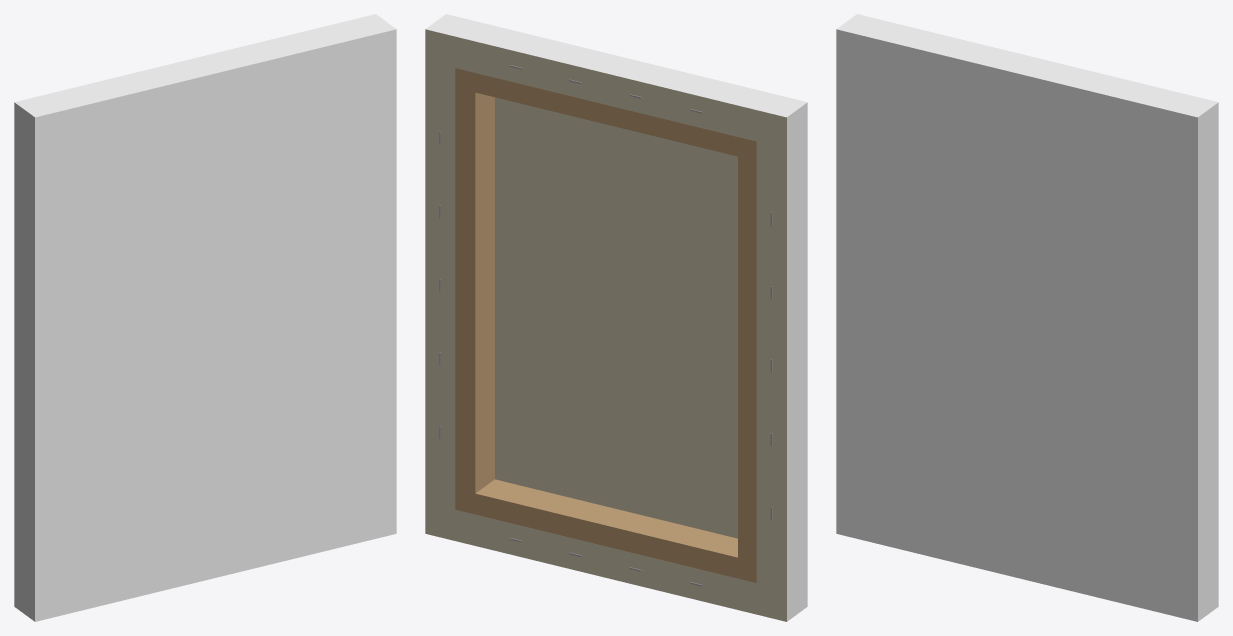
File: quadro.glb
The picture shows the model from 3 angles, left to right: view 1: azimuth 30°, elevation 25°; view 2: azimuth 150°, elevation 25°; view 3: azimuth 330°, elevation 25°; orthographic projection.
Parts seen in each view (by area): view 1: Arte; view 2: Tecido, Chassi, Arte, Grampos; view 3: Arte.
Part boxes in pixels (x1,y1,x2,y2): Arte: (14, 14, 396, 621); Tecido: (425, 29, 786, 621); Chassi: (455, 68, 756, 582); Arte: (425, 14, 807, 621); Grampos: (439, 65, 772, 586); Arte: (836, 14, 1218, 621).
Bounding box in the file's own units: 0.3 × 0.4 × 0.0306.
